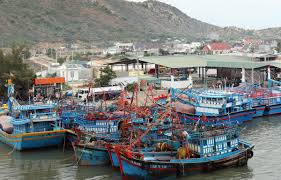tau_dansu: (116, 141, 258, 172), (1, 90, 68, 151), (182, 96, 256, 128), (70, 133, 121, 168)
